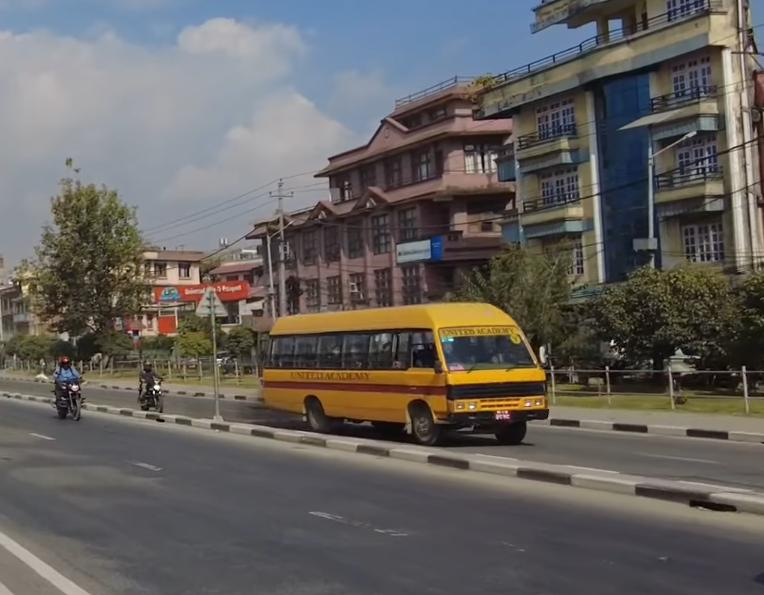bike: (52, 371, 87, 427), (138, 378, 166, 417)
school_bus: (259, 298, 554, 455)
